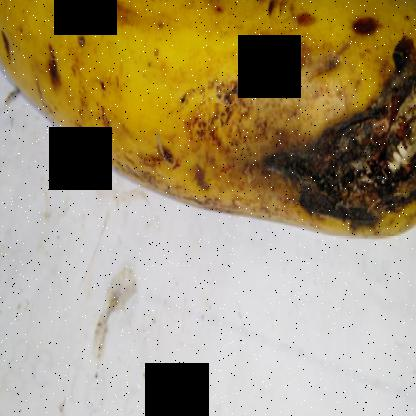ripe: (0, 0, 269, 222)
rotten: (222, 1, 415, 274)
